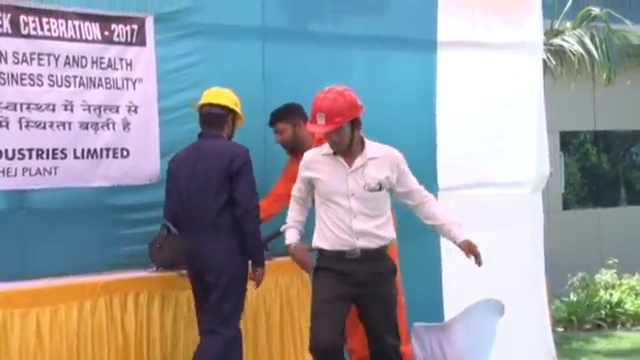helmet: (307, 84, 366, 134), (197, 84, 244, 127)
helmet_off: (267, 102, 307, 151)
helmet_on: (303, 83, 367, 158), (195, 83, 247, 144)
person: (288, 84, 482, 360), (156, 81, 263, 360)
